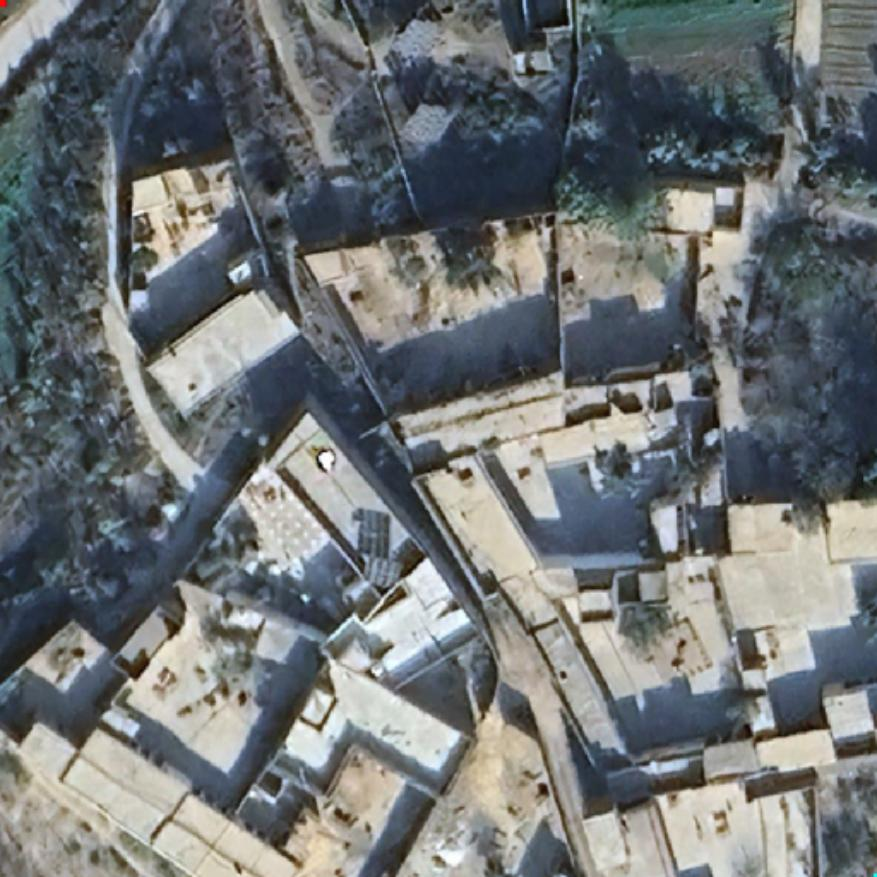Solarpanel: (357, 507, 391, 559), (364, 553, 402, 590)
